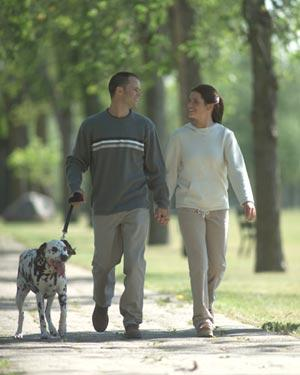person: (66, 72, 170, 338)
